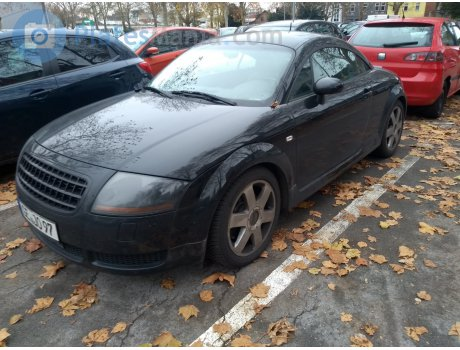License Plates: (26, 214, 53, 232)
